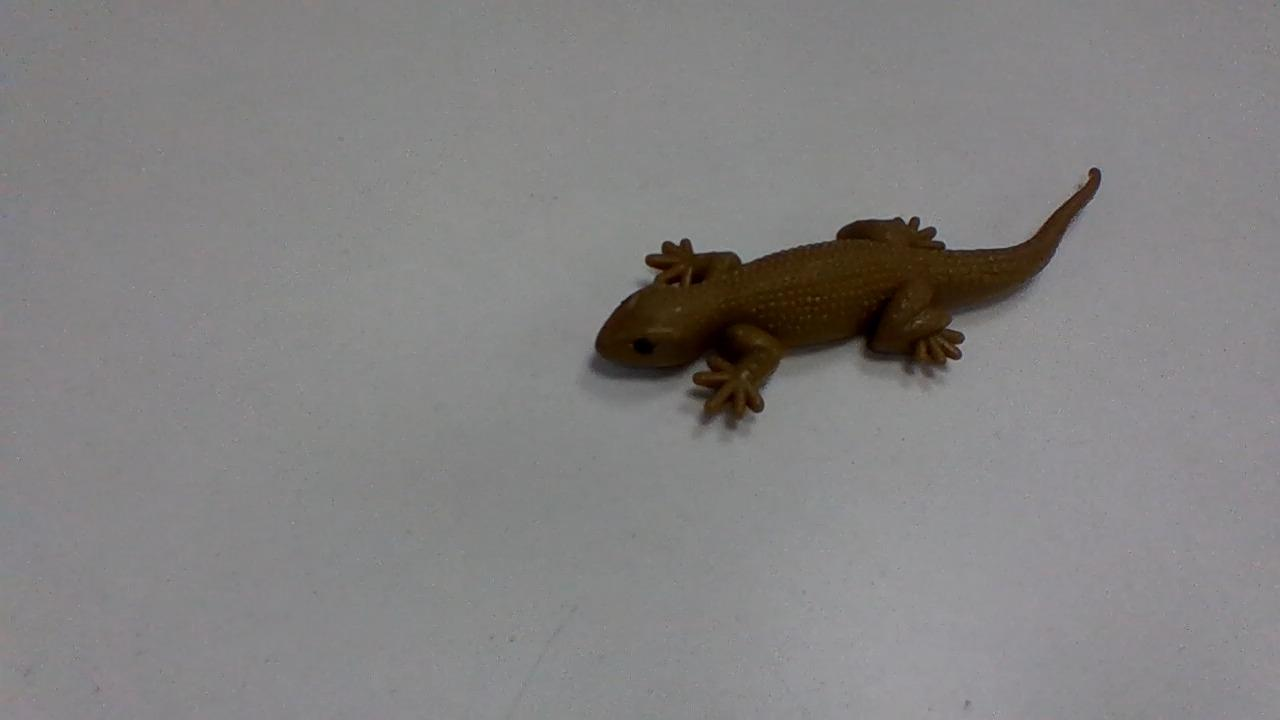lizard: (588, 165, 1100, 423)
